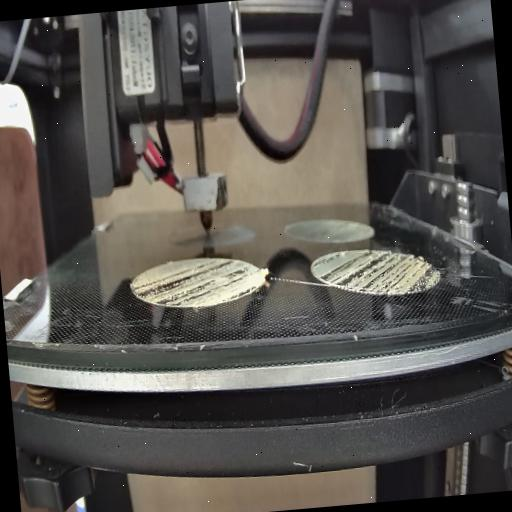under_extrusion: (316, 244, 438, 302), (132, 255, 256, 311)
